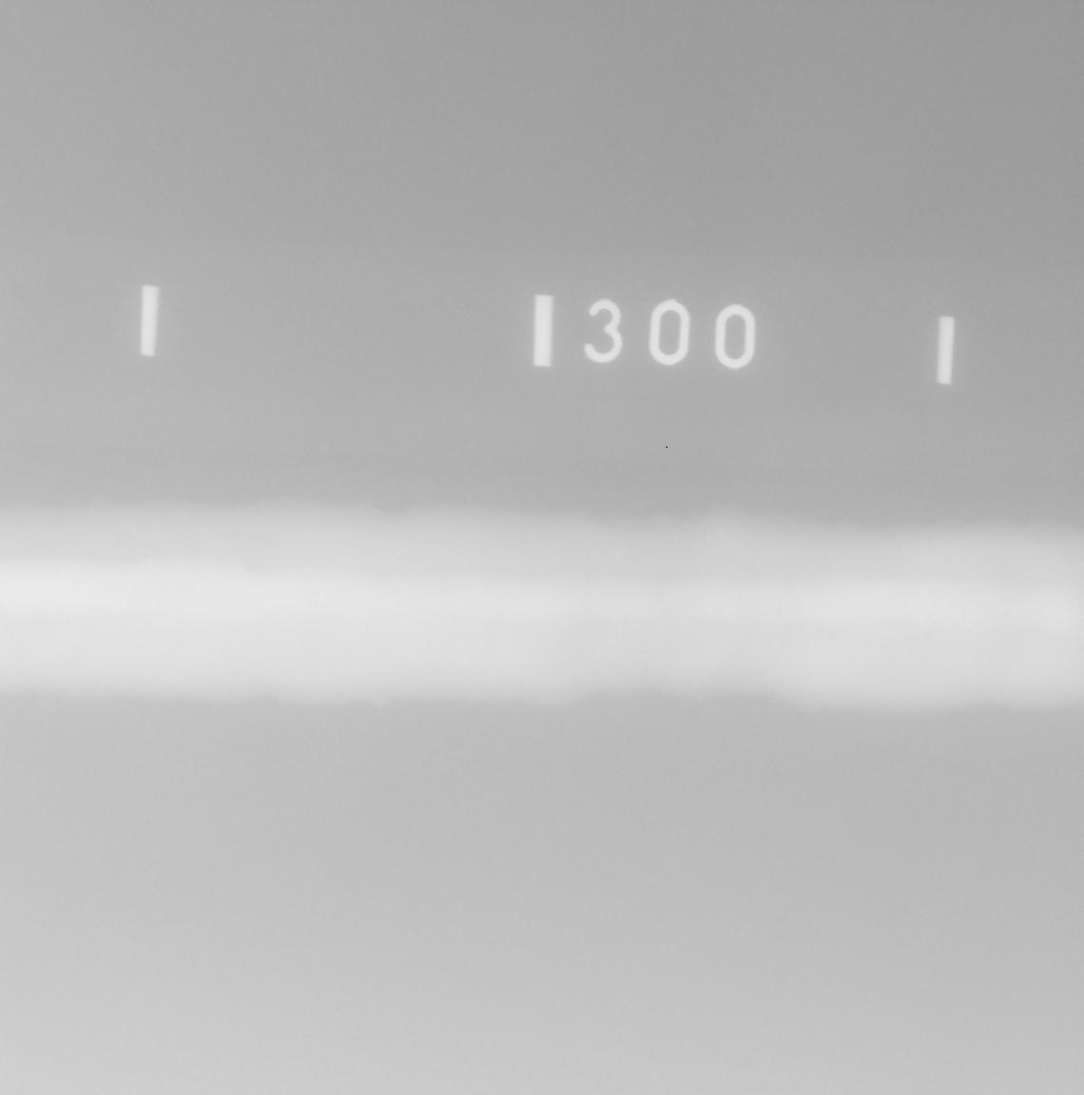Pore/Porosity: (829, 634, 835, 639)
